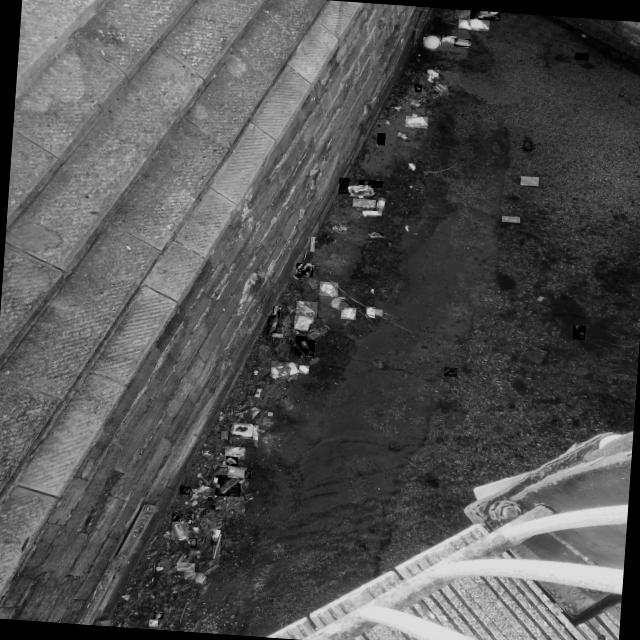Bottle cap: (208, 497, 212, 501), (211, 542, 216, 545), (195, 550, 200, 553), (211, 506, 215, 509), (164, 624, 168, 627), (202, 511, 205, 514), (216, 485, 219, 487)
Clear plastic bottle: (297, 336, 314, 355), (290, 340, 306, 357), (267, 317, 279, 335), (359, 180, 383, 188), (455, 9, 472, 19), (338, 178, 349, 193), (376, 198, 386, 214)
Cup: (427, 70, 438, 77)
Drink can: (573, 325, 585, 339), (502, 216, 520, 223), (576, 53, 588, 60), (524, 141, 532, 151)
Lid: (244, 470, 250, 478), (268, 412, 272, 416)
Other plastic: (234, 406, 261, 423), (296, 301, 317, 316), (294, 316, 313, 330), (406, 117, 427, 127), (331, 221, 347, 233), (340, 307, 356, 319)
Other plastic bottle: (177, 564, 195, 571), (180, 487, 190, 494), (173, 514, 182, 521), (440, 34, 446, 41)
Other plastic wrapper: (215, 475, 241, 495)
Plastic film: (308, 325, 331, 340), (470, 10, 499, 20), (330, 296, 348, 309)
Straw: (213, 534, 221, 558), (302, 249, 308, 264), (377, 133, 384, 145), (310, 236, 315, 251)
Unlabeled litter: (271, 362, 298, 378), (230, 423, 253, 437), (172, 522, 188, 540), (192, 483, 212, 497), (469, 18, 489, 30), (225, 447, 245, 459), (320, 282, 337, 296), (423, 36, 440, 49), (296, 263, 313, 276), (228, 466, 246, 478), (520, 176, 538, 186), (353, 200, 375, 207), (454, 38, 470, 47), (458, 20, 471, 29), (444, 367, 457, 376), (196, 573, 206, 583), (225, 457, 237, 465), (362, 211, 381, 216), (366, 307, 374, 318), (396, 132, 408, 139), (446, 36, 457, 43), (273, 306, 280, 317), (368, 232, 383, 237), (435, 85, 446, 91), (184, 573, 195, 579), (299, 366, 308, 373), (254, 425, 258, 440), (411, 99, 419, 106), (254, 389, 262, 396), (221, 431, 228, 439), (213, 529, 220, 537), (149, 620, 158, 626), (191, 538, 196, 548), (153, 613, 163, 618), (414, 84, 421, 91), (374, 309, 382, 315), (121, 594, 129, 600), (409, 164, 415, 169), (273, 334, 283, 337), (213, 477, 218, 483), (220, 461, 226, 466), (294, 275, 301, 279), (385, 119, 390, 124), (193, 528, 199, 532), (188, 512, 192, 518), (253, 370, 258, 374), (188, 520, 192, 525), (395, 107, 401, 110), (405, 226, 409, 230), (413, 114, 418, 117), (370, 289, 373, 293)
